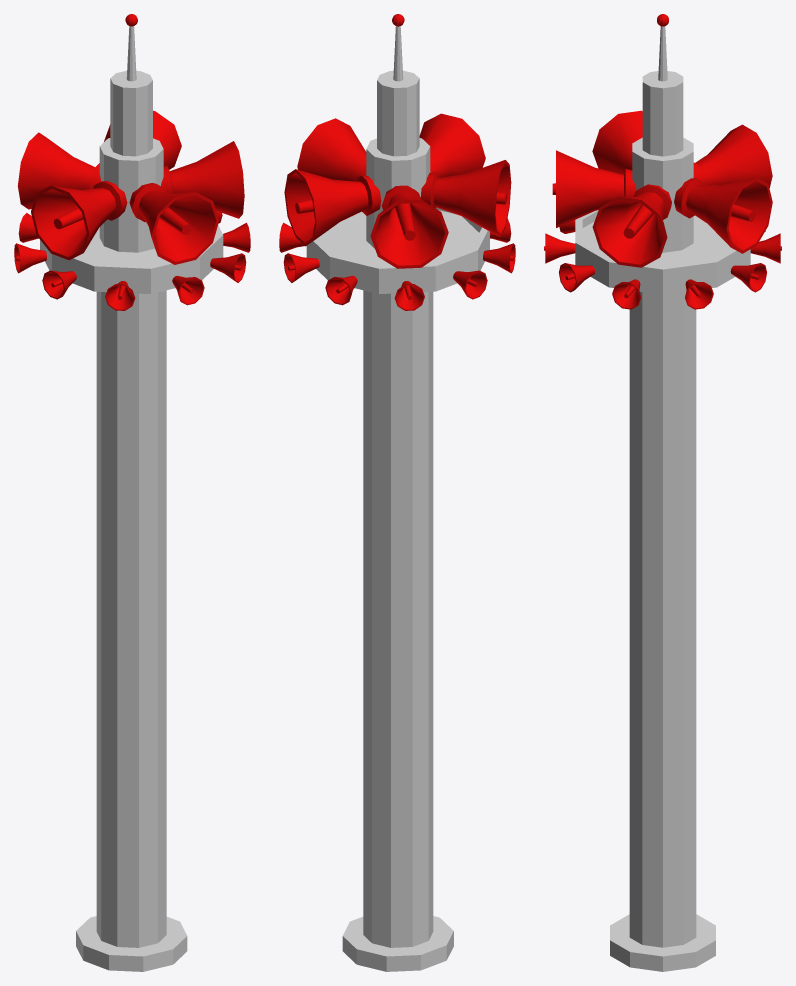
File: Tower.fbx
3 views of the same model, side by side, from view 1: azimuth 30°, elevation 25°; view 2: azimuth 150°, elevation 25°; view 3: azimuth 270°, elevation 25° (orthographic).
Visible parts, largest first — view 1: mainbody, pCylinder16, pCylinder12, pCylinder13, pCylinder15, pCylinder14, pCylinder10, pCylinder2, pCylinder3, pCylinder11, pCylinder9, pCylinder4; view 2: mainbody, pCylinder15, pCylinder14, pCylinder16, pCylinder13, pCylinder12, pCylinder9, pCylinder7, pCylinder6, pCylinder8, pCylinder10; view 3: mainbody, pCylinder14, pCylinder13, pCylinder12, pCylinder15, pCylinder16, pCylinder3, pCylinder6, pCylinder4, pCylinder5, pCylinder2, pCylinder7.
Boxes of the visible parts, x1=… form: mainbody: x1=40, y1=26, x2=223, y2=971; pCylinder16: x1=31, y1=181, x2=127, y2=260; pCylinder12: x1=129, y1=183, x2=219, y2=264; pCylinder13: x1=161, y1=141, x2=244, y2=218; pCylinder15: x1=17, y1=132, x2=100, y2=209; pCylinder14: x1=104, y1=110, x2=181, y2=169; pCylinder10: x1=42, y1=270, x2=76, y2=299; pCylinder2: x1=172, y1=275, x2=204, y2=305; pCylinder3: x1=210, y1=253, x2=246, y2=282; pCylinder11: x1=105, y1=281, x2=135, y2=310; pCylinder9: x1=14, y1=243, x2=46, y2=273; pCylinder4: x1=223, y1=222, x2=250, y2=252; mainbody: x1=306, y1=26, x2=489, y2=971; pCylinder15: x1=370, y1=185, x2=448, y2=268; pCylinder14: x1=284, y1=169, x2=381, y2=246; pCylinder16: x1=420, y1=160, x2=511, y2=237; pCylinder13: x1=297, y1=118, x2=366, y2=181; pCylinder12: x1=419, y1=113, x2=485, y2=177; pCylinder9: x1=453, y1=270, x2=487, y2=299; pCylinder7: x1=325, y1=275, x2=357, y2=305; pCylinder6: x1=283, y1=253, x2=319, y2=282; pCylinder8: x1=394, y1=281, x2=424, y2=310; pCylinder10: x1=483, y1=243, x2=515, y2=273; mainbody: x1=575, y1=26, x2=750, y2=971; pCylinder14: x1=674, y1=177, x2=772, y2=253; pCylinder13: x1=592, y1=184, x2=671, y2=267; pCylinder12: x1=552, y1=150, x2=636, y2=227; pCylinder15: x1=693, y1=124, x2=772, y2=187; pCylinder16: x1=592, y1=110, x2=642, y2=174; pCylinder3: x1=559, y1=263, x2=595, y2=292; pCylinder6: x1=730, y1=263, x2=766, y2=292; pCylinder4: x1=612, y1=279, x2=640, y2=309; pCylinder5: x1=685, y1=279, x2=713, y2=309; pCylinder2: x1=544, y1=233, x2=575, y2=263; pCylinder7: x1=750, y1=233, x2=781, y2=263.
Size of the model in its own units: 25.34 by 112 by 25.84.
